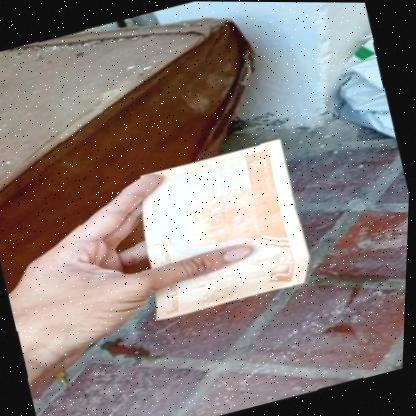twenty-back-vef: (119, 135, 321, 322)
